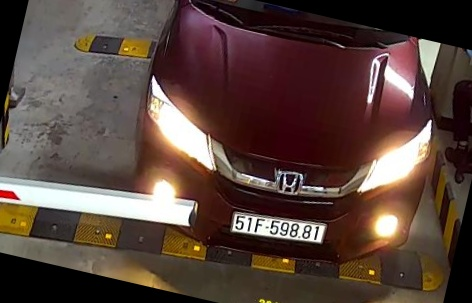plate: (223, 201, 329, 253)
